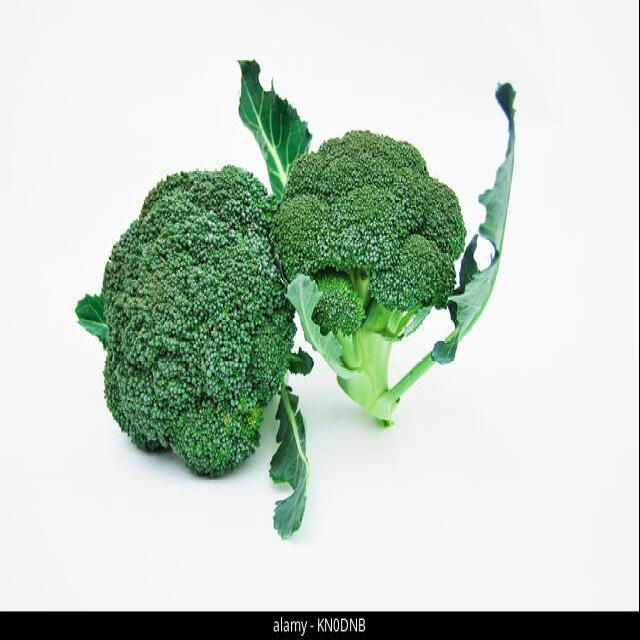broccoli: (102, 161, 303, 478), (278, 127, 468, 426)
